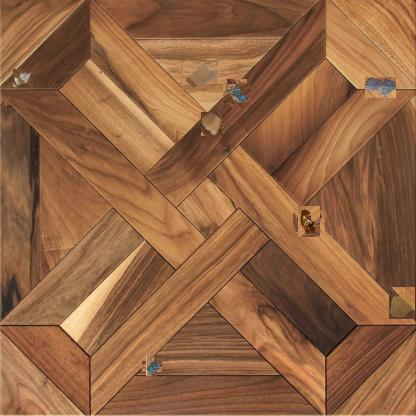dirty: (182, 60, 218, 90), (296, 208, 323, 234), (225, 81, 249, 105), (202, 112, 224, 136), (13, 69, 33, 87), (144, 359, 160, 374)
liquid: (389, 287, 415, 319), (364, 76, 396, 98)
